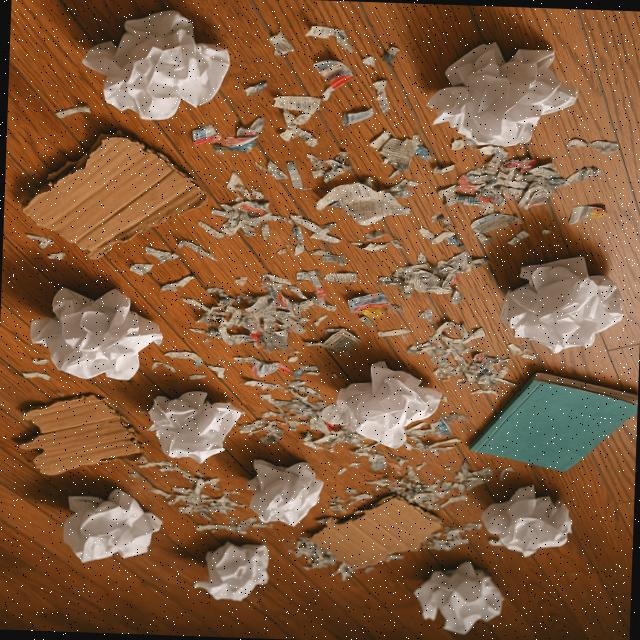paper: (73, 6, 235, 118), (424, 38, 578, 148), (26, 284, 169, 384), (509, 258, 626, 356), (318, 360, 442, 444), (64, 483, 165, 568), (142, 388, 240, 467), (417, 558, 506, 636), (487, 480, 576, 554), (200, 536, 274, 604), (252, 458, 320, 524)
